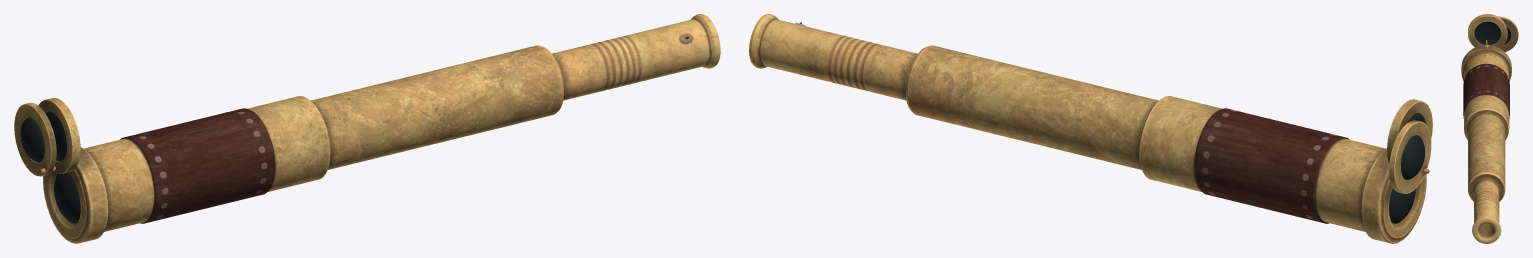
Rendered from lunette-de-laiton.glb.
3 renders of one model, left to right at view 1: azimuth 30°, elevation 25°; view 2: azimuth 150°, elevation 25°; view 3: azimuth 270°, elevation 25°, orthographic. The views are drawn at different scales.
Visible parts, largest first — view 1: Cylinder; view 2: Cylinder; view 3: Cylinder.
Boxes of the visible parts, x1,y1,x2,y2 form: Cylinder: (14,14,720,243); Cylinder: (749,14,1432,243); Cylinder: (1461,14,1518,243).
Size of the model in its own units: 14.96 by 3 by 2.12.
1 material, 1 textured.
